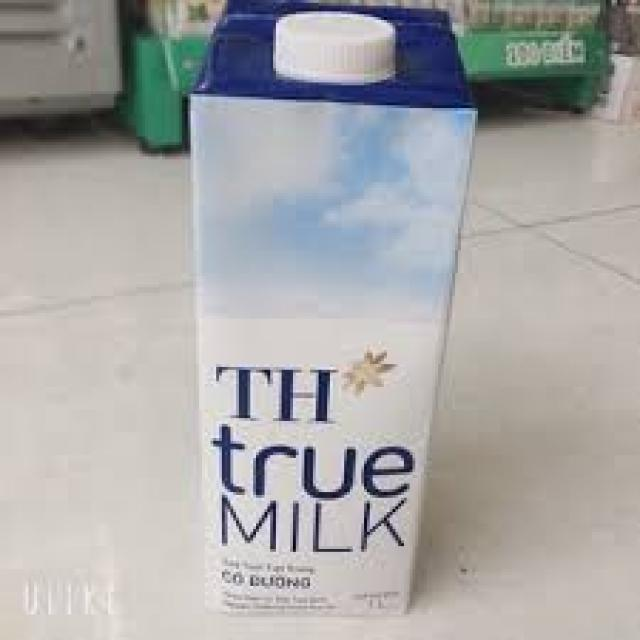non_white_jug: (173, 0, 483, 631)
